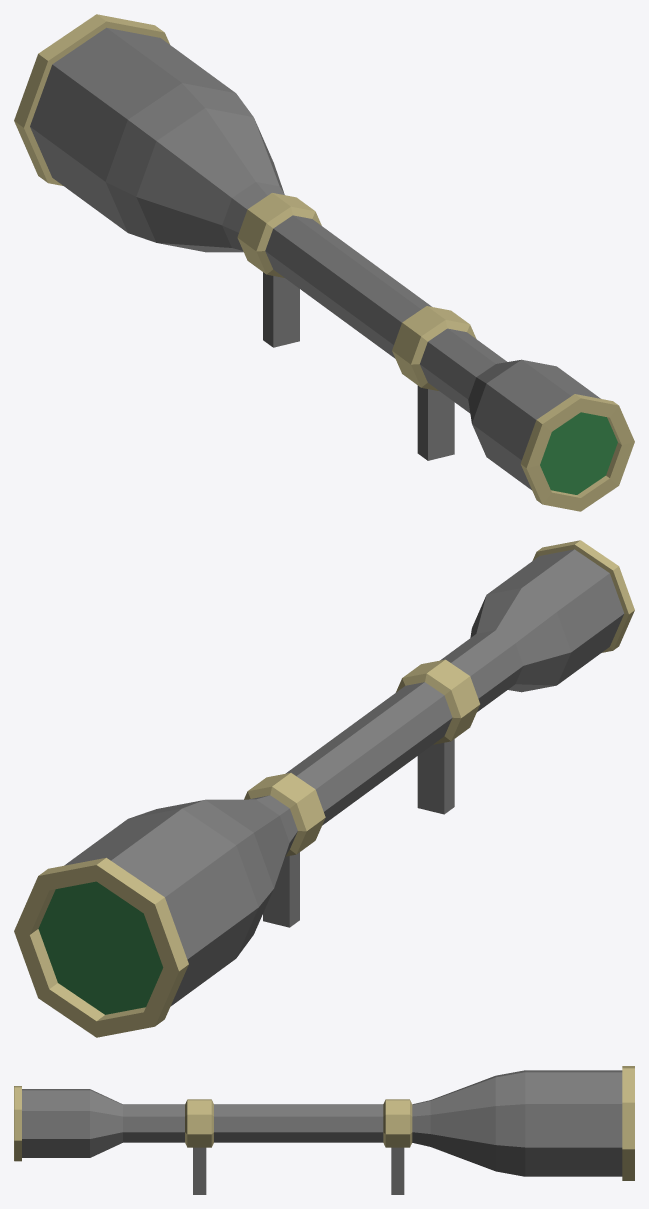
The model's file is Scope3.fbx.
3 renders of one model, top to bottom at view 1: azimuth 30°, elevation 25°; view 2: azimuth 150°, elevation 25°; view 3: azimuth 270°, elevation 25°, orthographic. The views are drawn at different scales.
Visible parts, largest first — view 1: SniperRifle_B.002; view 2: SniperRifle_B.002; view 3: SniperRifle_B.002.
Boxes of the visible parts, x1,y1,x2,y2 form: SniperRifle_B.002: (14,14,634,511); SniperRifle_B.002: (14,540,634,1037); SniperRifle_B.002: (14,1066,634,1194).
Size of the model in its own units: 90.84 by 100 by 462.
